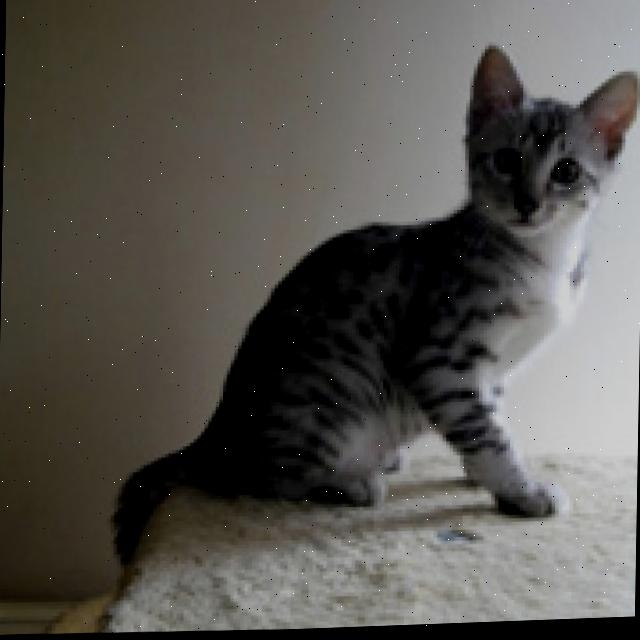Egyptian Mau: (105, 31, 640, 577)
